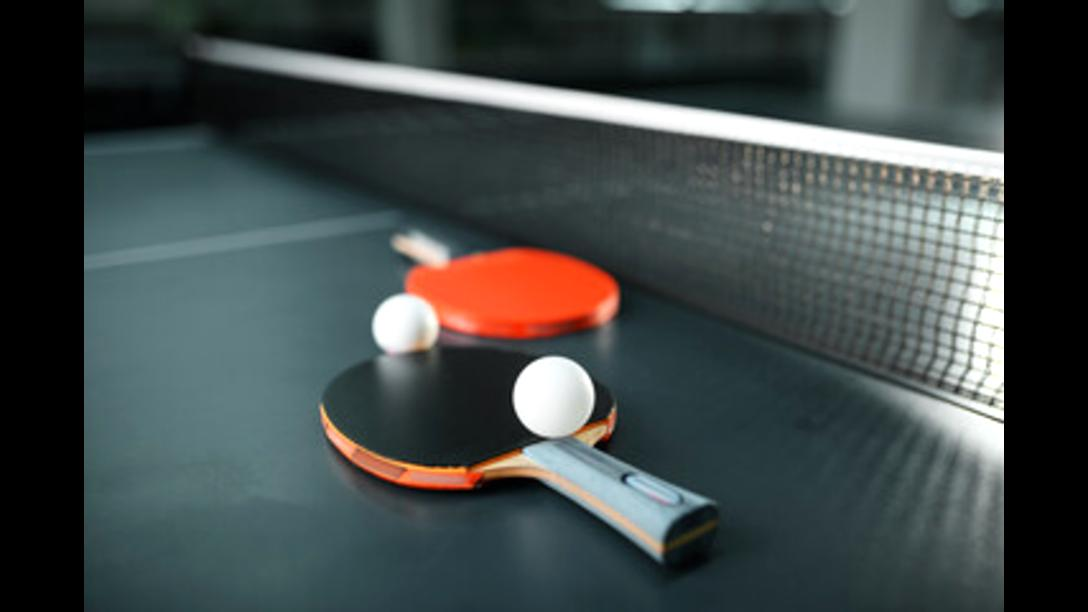Table-Tennis-Ball: (515, 357, 593, 435), (373, 294, 438, 352)
